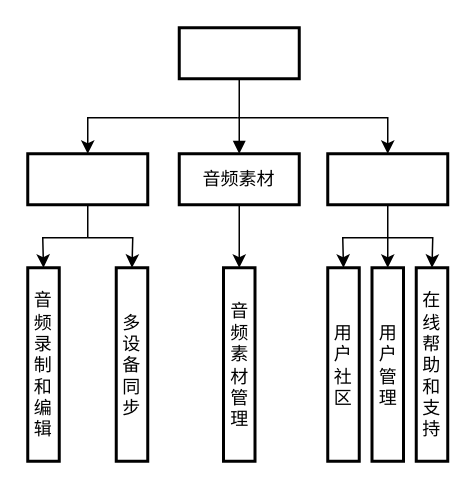
Some shapes in this 474 by 488 pixel diagram are drawn without their labels. Each missing label, with the centre of its shape:
"用户信息" goes at pixel 387 179.
"用户配音项目" goes at pixel 87 179.
"配音APP" goes at pixel 238 53.
